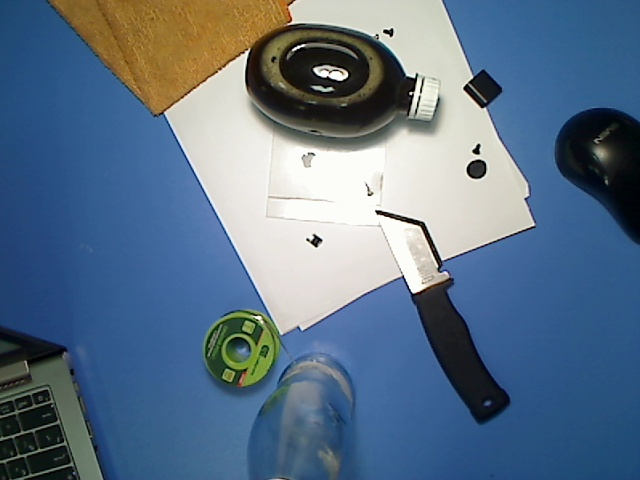plast_bottle: (241, 18, 445, 146)
